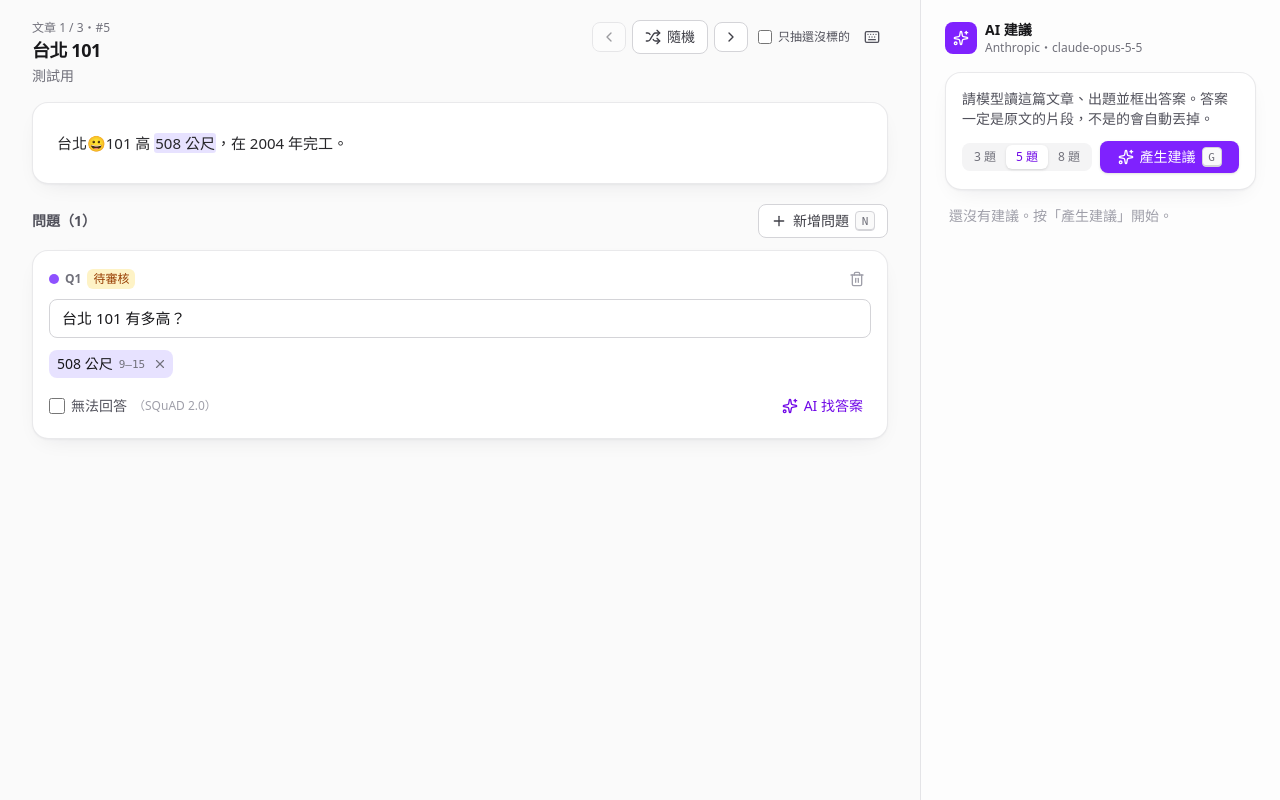
Test case: annotate page › shows AI suggestions and accepting one creates a question
The width and height of the screenshot is (1280, 800).
Check: the text "Anthropic・claude-opus-5-5" is shown, box [985,40,1142,56]
Click the button "產生建議 G" at (1170,157), box [1100,141,1239,173]
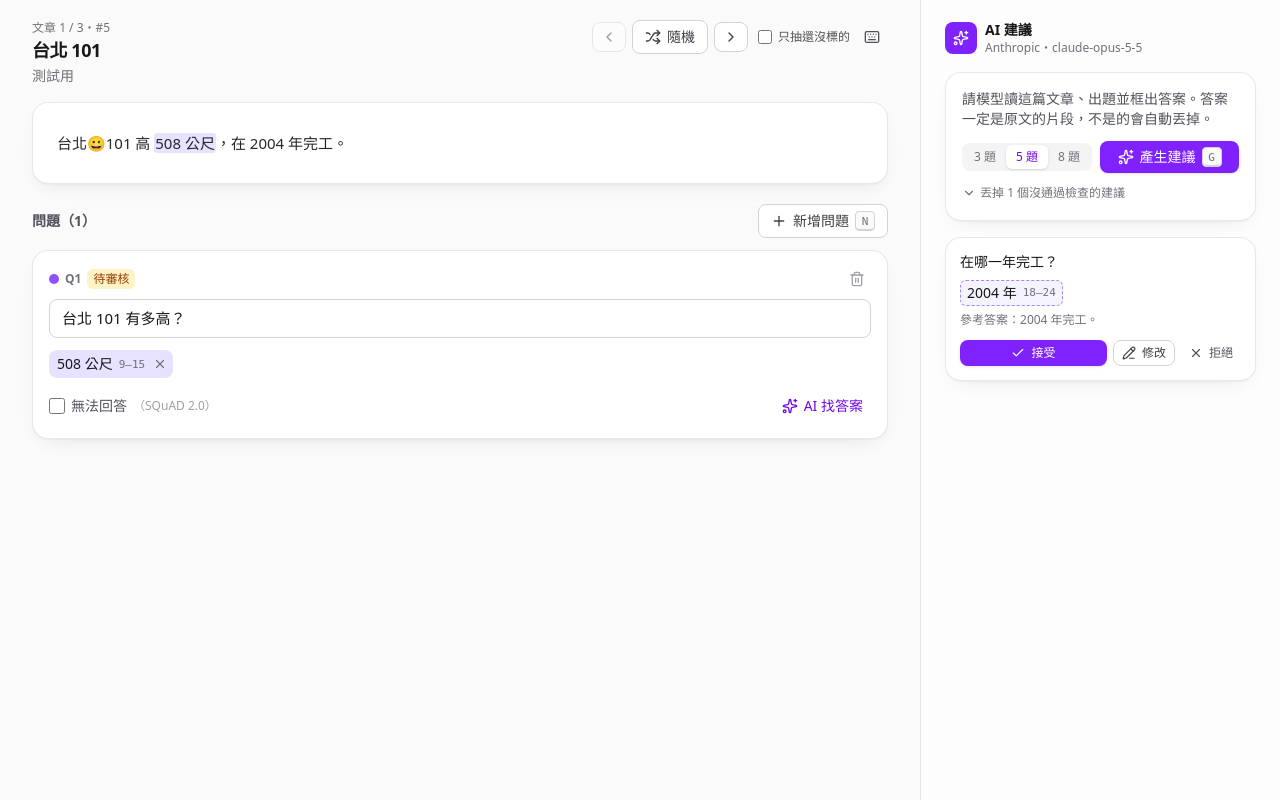
Check: the text "在哪一年完工？" is shown, box [960,252,1058,271]
Check: the button "丟掉 1 個沒通過檢查的建議" is shown, box [962,185,1125,201]
Click the button "接受" at (1034,353), box [960,340,1107,366]
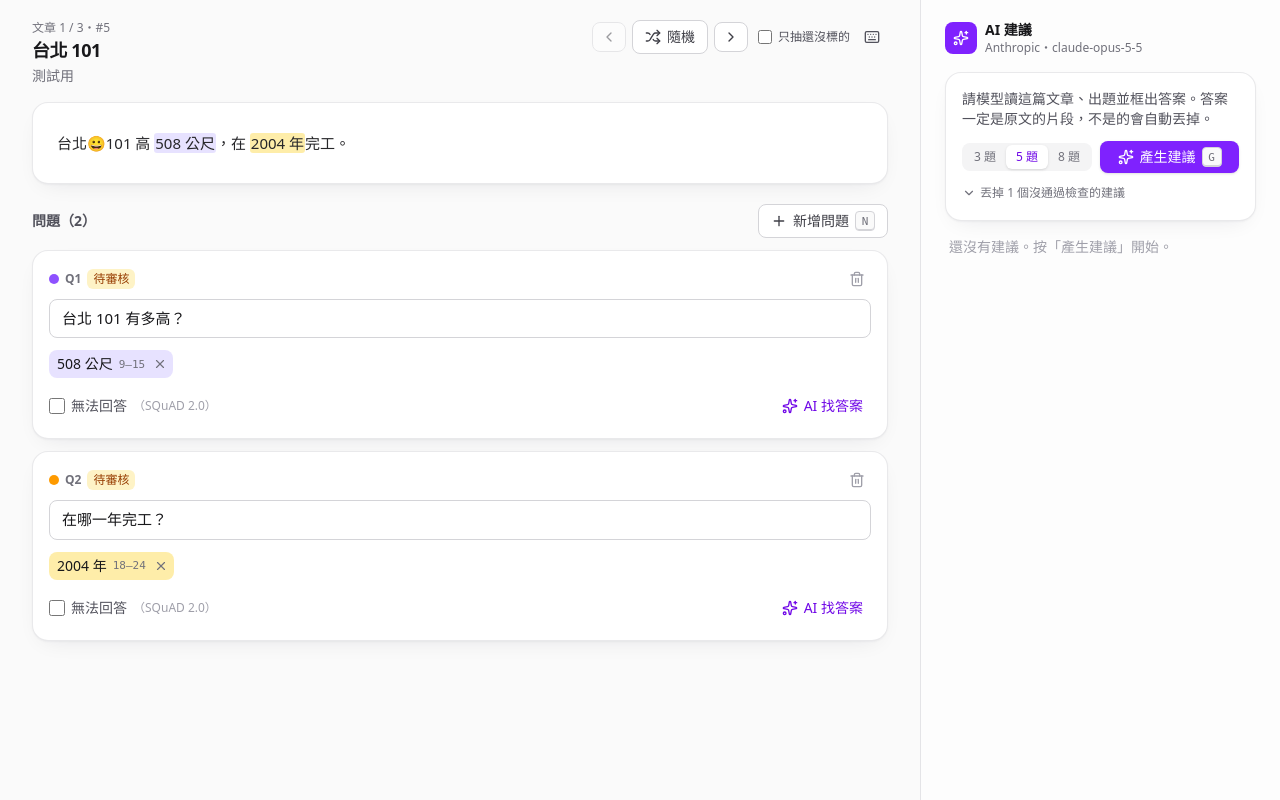
Check: the field named "問題 2" holds "在哪一年完工？", box [49,500,871,540]
